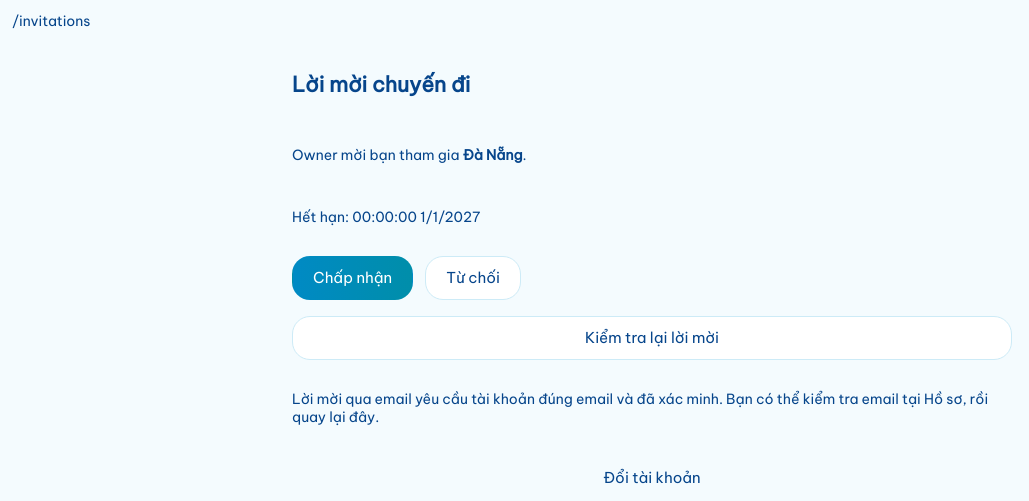
invitation token and response flow › decline shows final receipt without another preview
Step 1. Click the button "Từ chối" → (473, 278), box top-left (425, 256), bottom-right (521, 300)
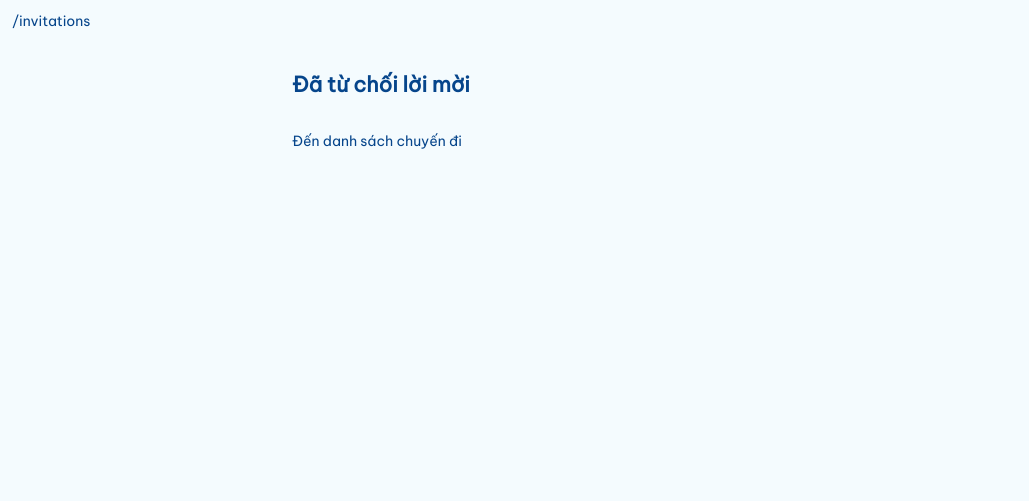
Check: the heading "Đã từ chối lời mời" is shown, box top-left (292, 71), bottom-right (470, 98)
